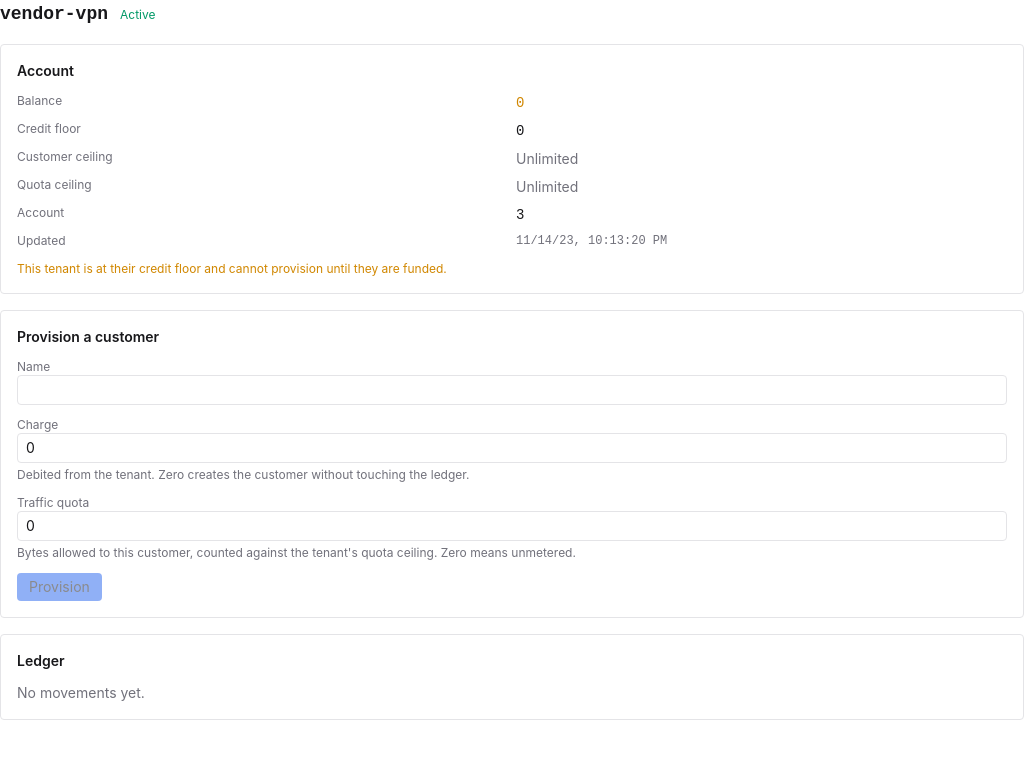
Test: server refusals › shows the server's refusal verbatim
Expected: the heading "Provision a customer" is shown, [17,328,159,345]
Type "customer" into the field labelled "Name" at (512, 390), box [17,375,1007,405]
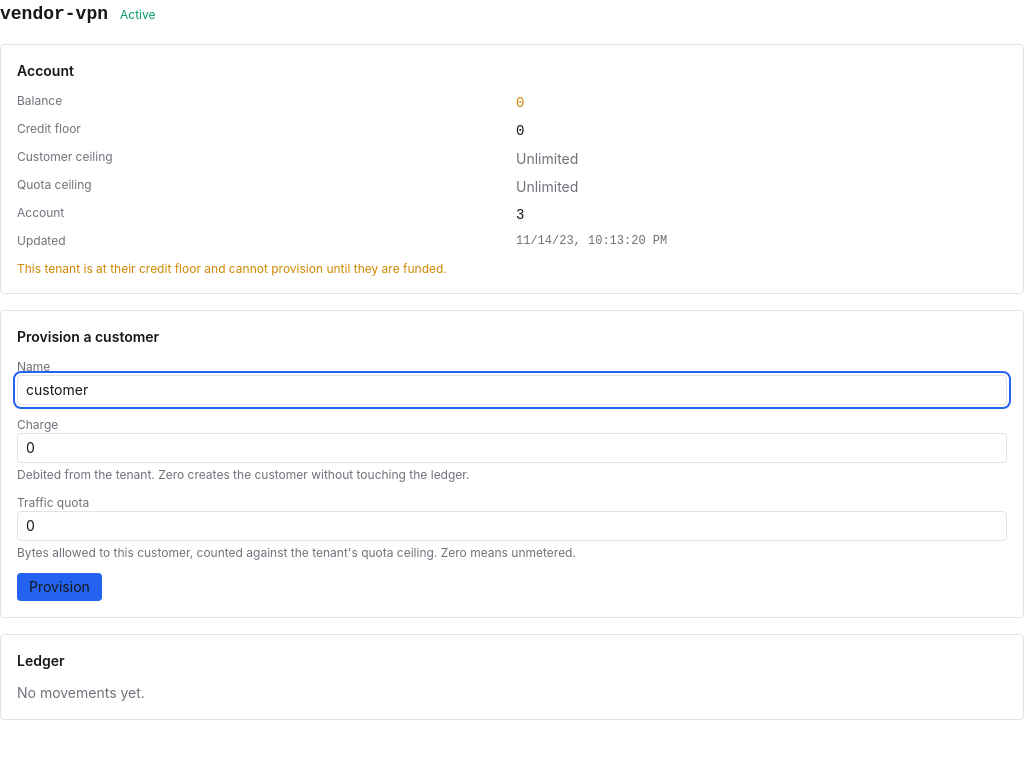
Click the button "Provision" at (59, 587), box [17,573,102,601]
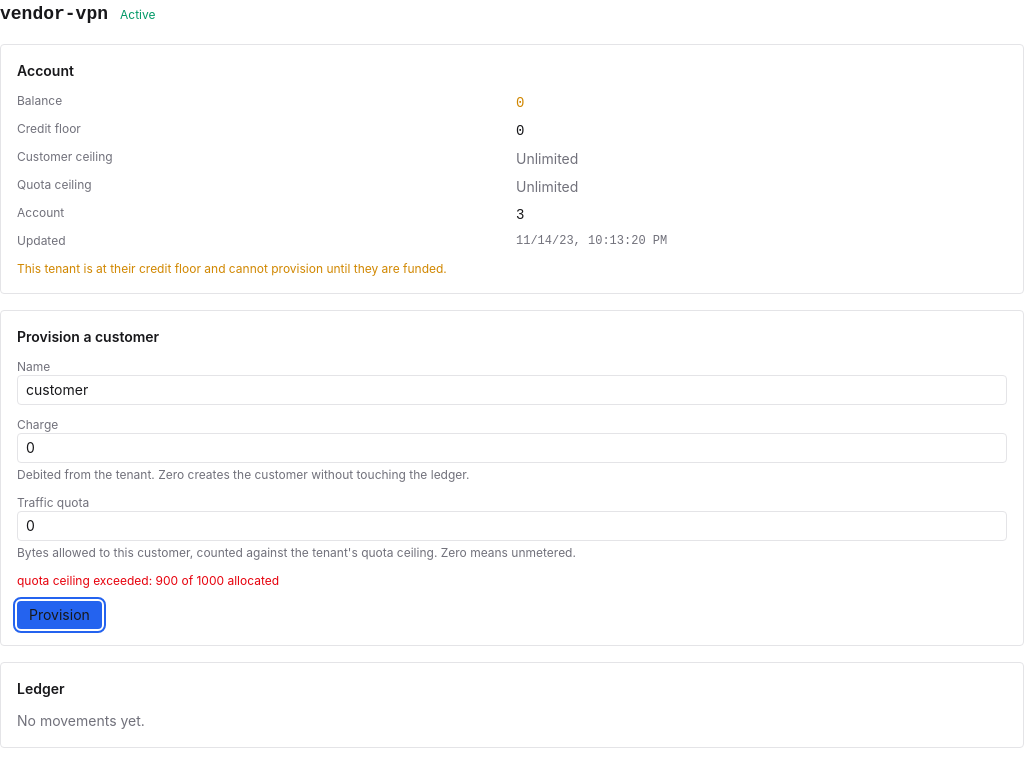
Now the message "quota ceiling exceeded: 900 of 1000 allocated" is shown, box [17,573,279,588]
